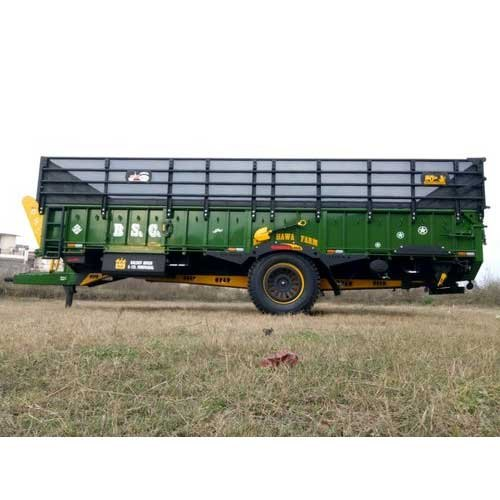wheel: (252, 260, 315, 313)
